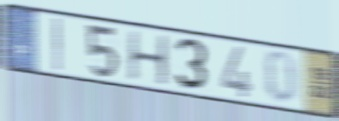0: (263, 50, 300, 106)
3: (172, 36, 212, 93)
4: (220, 43, 254, 99)
5: (85, 21, 121, 80)
H: (126, 29, 171, 89)
I: (52, 15, 63, 74)
